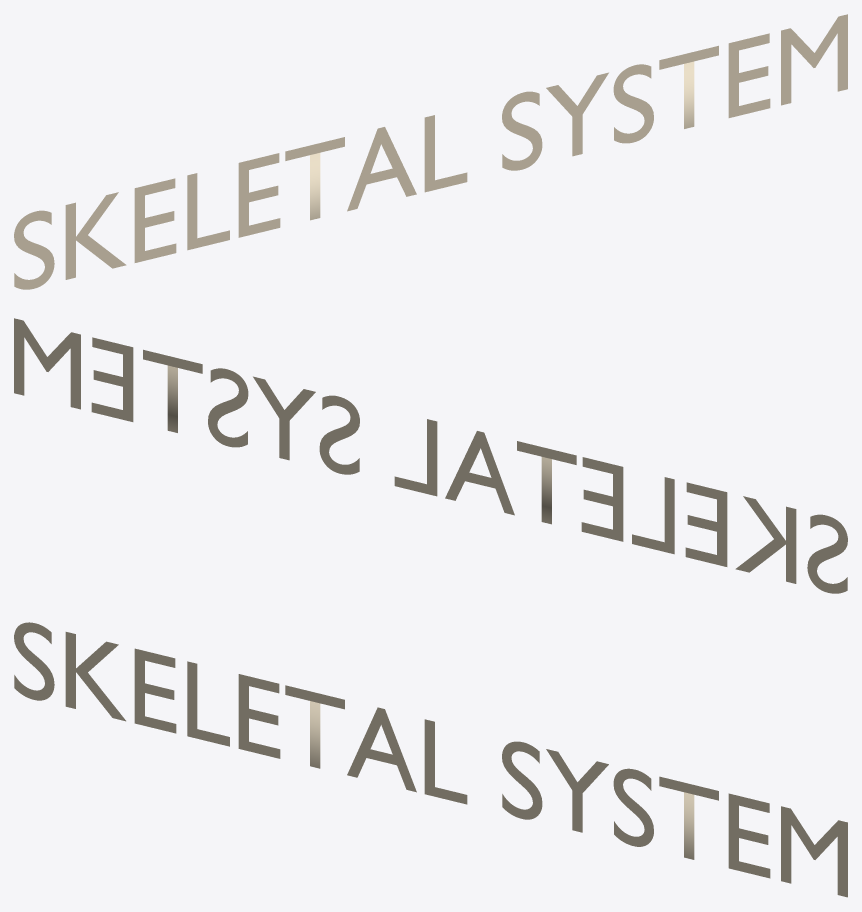
File: skeletal-system-g.glb
3 renders of one model, top to bottom at view 1: azimuth 30°, elevation 25°; view 2: azimuth 150°, elevation 25°; view 3: azimuth 330°, elevation 25°, orthographic.
Visible parts, largest first — view 1: Skeletal system.g; view 2: Skeletal system.g; view 3: Skeletal system.g.
Boxes of the visible parts, bbox=[...] form: Skeletal system.g: bbox=[14, 14, 847, 289]; Skeletal system.g: bbox=[14, 318, 847, 593]; Skeletal system.g: bbox=[14, 622, 847, 897].
Bounding box in the file's own units: 0.3968 × 0.035 × 0.
